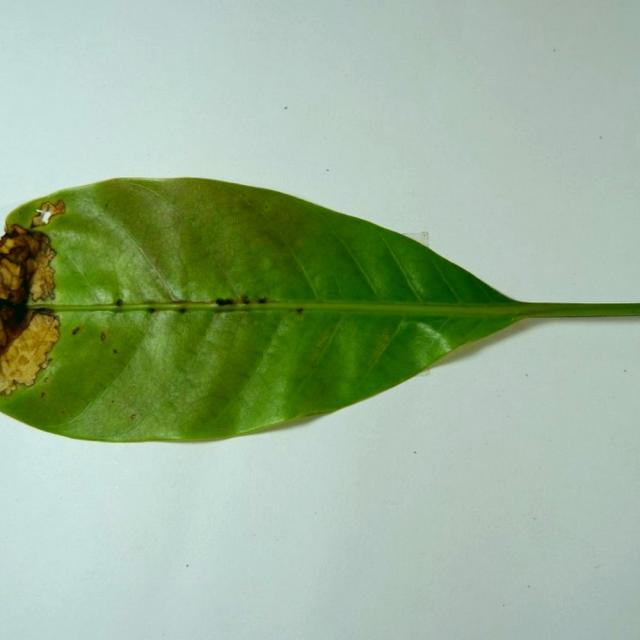Anthracnose: (0, 308, 63, 397), (19, 240, 76, 295), (123, 295, 279, 310), (28, 198, 67, 228), (0, 368, 19, 397), (72, 326, 81, 335)
Mango: (0, 178, 639, 447)
